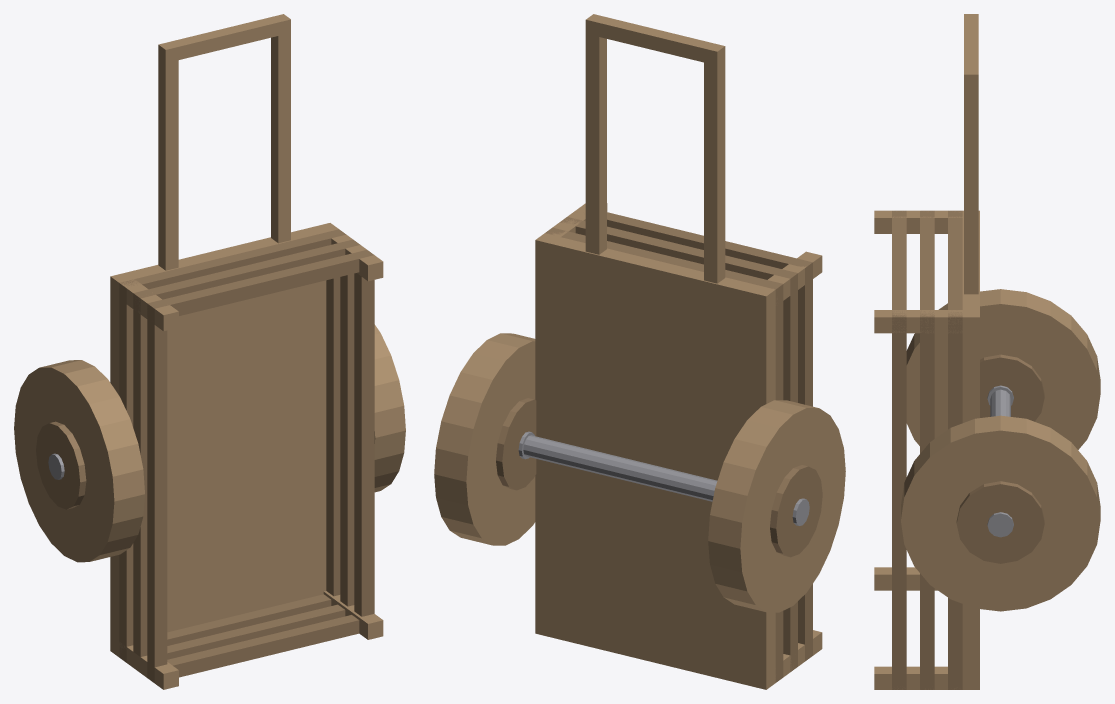
File: holzwagen_t1.glb
3 views of the same model, side by side, from view 1: azimuth 30°, elevation 25°; view 2: azimuth 150°, elevation 25°; view 3: azimuth 270°, elevation 25° (orthographic). The views are drawn at different scales.
Parts seen in each view (by area): view 1: p0, p18, p9, p10, p6, p2, p24, p5, p25, p12, p11, p21 (+11 smaller); view 2: p0, p18, p21, p24, p25, p17, p19, p26, p9, p22, p12, p5 (+4 smaller); view 3: p21, p18, p10, p22, p0, p6, p25, p19, p2, p4, p8, p16 (+7 smaller).
Part boxes in pixels (x1,y1,x2,y2): p0: (110,223,338,657); p18: (14,360,144,562); p9: (147,300,167,682); p10: (354,250,374,616); p6: (340,239,360,606); p2: (326,229,345,596); p24: (158,51,178,270); p5: (133,290,152,656); p25: (271,26,290,243); p12: (147,250,372,321); p11: (147,615,359,682); p21: (374,324,405,492); p0: (535,233,775,689); p18: (708,400,845,612); p21: (434,333,535,545); p24: (704,53,725,283); p25: (585,27,606,254); p17: (523,435,717,501); p19: (770,465,822,557); p26: (585,14,725,65); p9: (798,261,812,661); p22: (496,398,536,490); p12: (607,212,812,281); p5: (782,271,797,671); p21: (901,415,1100,611); p18: (906,289,1100,449); p10: (892,313,906,689); p22: (956,481,1044,563); p0: (962,210,979,689); p6: (920,313,934,689); p25: (964,81,978,294); p19: (980,354,1044,421); p2: (948,313,962,689); p4: (948,210,962,330); p8: (920,210,934,330); p16: (874,310,962,333).
Size of the model in its own units: 1.21 by 2.22 by 0.77.
